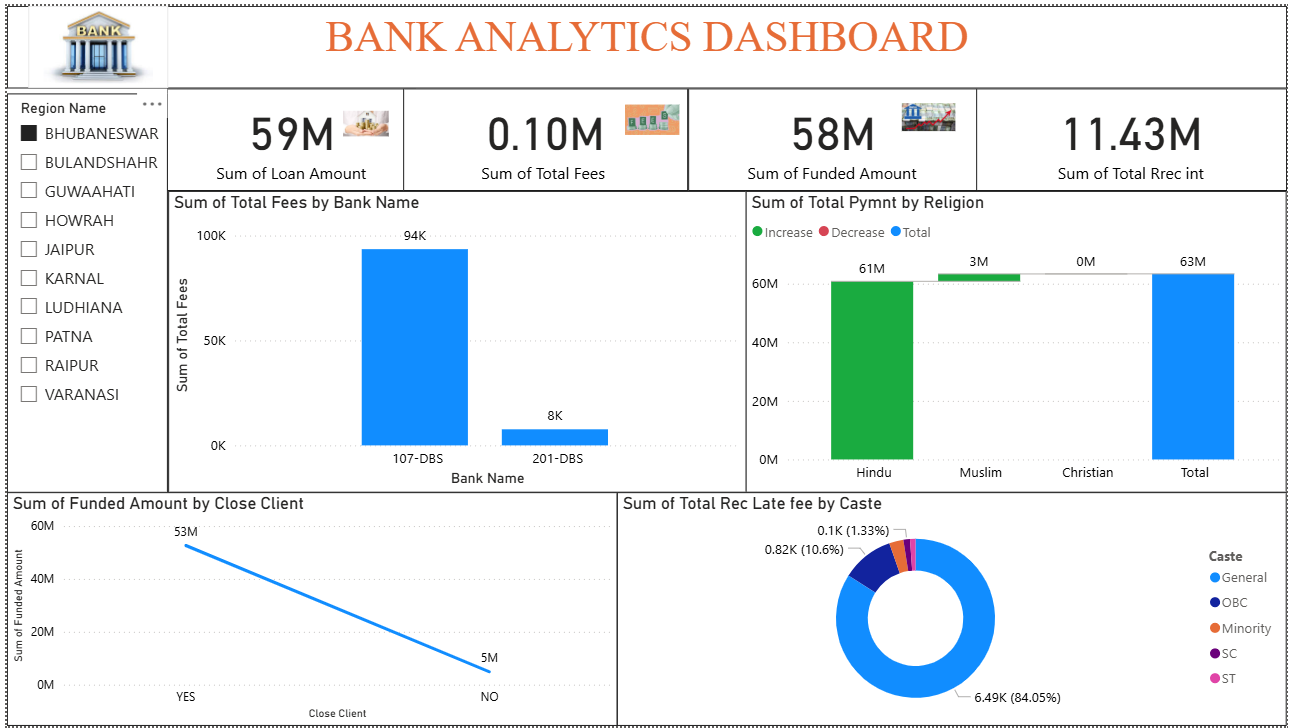

The page's visual inventory and layout, read from the dashboard file:
{"tool":"powerbi","page":{"name":"Page 1","canvas":[1280,720],"ordinal":0},"visuals":[{"type":"clusteredColumnChart","fields":{"Category":["Banking Data.Bank Name"],"Y":["Sum(Banking Data.Total Fees )"]},"box":[160.9,184.8,578.1,301.6],"z":0},{"type":"card","fields":{"Values":["Sum(Banking Data.Loan Amount)"]},"box":[159.7,82.2,249.1,102.5],"z":1000},{"type":"card","fields":{"Values":["Sum(Banking Data.Total Fees )"]},"box":[395.8,82.2,284.9,102.5],"z":2000},{"type":"card","fields":{"Values":["Sum(Banking Data.Total Rrec int)"]},"box":[969.1,82.2,311.1,102.5],"z":3000},{"type":"waterfallChart","fields":{"Category":["Banking Data.Religion"],"Y":["Sum(Banking Data.Total Pymnt)"]},"box":[739.1,184.8,541.2,301.6],"z":4000},{"type":"lineChart","fields":{"Category":["Banking Data.Close Client"],"Y":["Sum(Banking Data.Funded Amount)"]},"box":[0,486.3,610.3,233.6],"z":5000},{"type":"card","fields":{"Values":["Sum(Banking Data.Funded Amount)"]},"box":[680.6,82.2,288.5,102.5],"z":6000},{"type":"textbox","box":[0,0,1280.2,82.2],"z":7000},{"type":"donutChart","fields":{"Category":["Banking Data.Caste"],"Y":["Sum(Banking Data.Total Rec Late fee)"]},"box":[610.3,486.3,669.9,233.6],"z":8000},{"type":"slicer","fields":{"Values":["Banking Data.Region Name"]},"box":[0,87,160.9,399.3],"z":9000},{"type":"image","box":[21.5,0,139.5,82.2],"z":10000},{"type":"image","box":[323,100.1,72.7,35.8],"z":11000},{"type":"image","box":[610.3,94.2,70.3,40.5],"z":12000},{"type":"image","box":[890.4,87,63.2,46.5],"z":13000}]}

Visuals, with their boxes in screenshot pixels (x1, y1, x2, y2), scaled from the page's 1280x720 canvas onto the 1292x728 screenshot:
clusteredColumnChart - Banking Data.Bank Name x Sum(Banking Data.Total Fees ): x1=162, y1=187, x2=746, y2=492
card - Sum(Banking Data.Loan Amount): x1=161, y1=83, x2=413, y2=187
card - Sum(Banking Data.Total Fees ): x1=400, y1=83, x2=687, y2=187
card - Sum(Banking Data.Total Rrec int): x1=978, y1=83, x2=1291, y2=187
waterfallChart - Banking Data.Religion x Sum(Banking Data.Total Pymnt): x1=746, y1=187, x2=1291, y2=492
lineChart - Banking Data.Close Client x Sum(Banking Data.Funded Amount): x1=0, y1=492, x2=616, y2=727
card - Sum(Banking Data.Funded Amount): x1=687, y1=83, x2=978, y2=187
textbox: x1=0, y1=0, x2=1291, y2=83
donutChart - Banking Data.Caste x Sum(Banking Data.Total Rec Late fee): x1=616, y1=492, x2=1291, y2=727
slicer - Banking Data.Region Name: x1=0, y1=88, x2=162, y2=492
image: x1=22, y1=0, x2=163, y2=83
image: x1=326, y1=101, x2=399, y2=137
image: x1=616, y1=95, x2=687, y2=136
image: x1=899, y1=88, x2=963, y2=135
